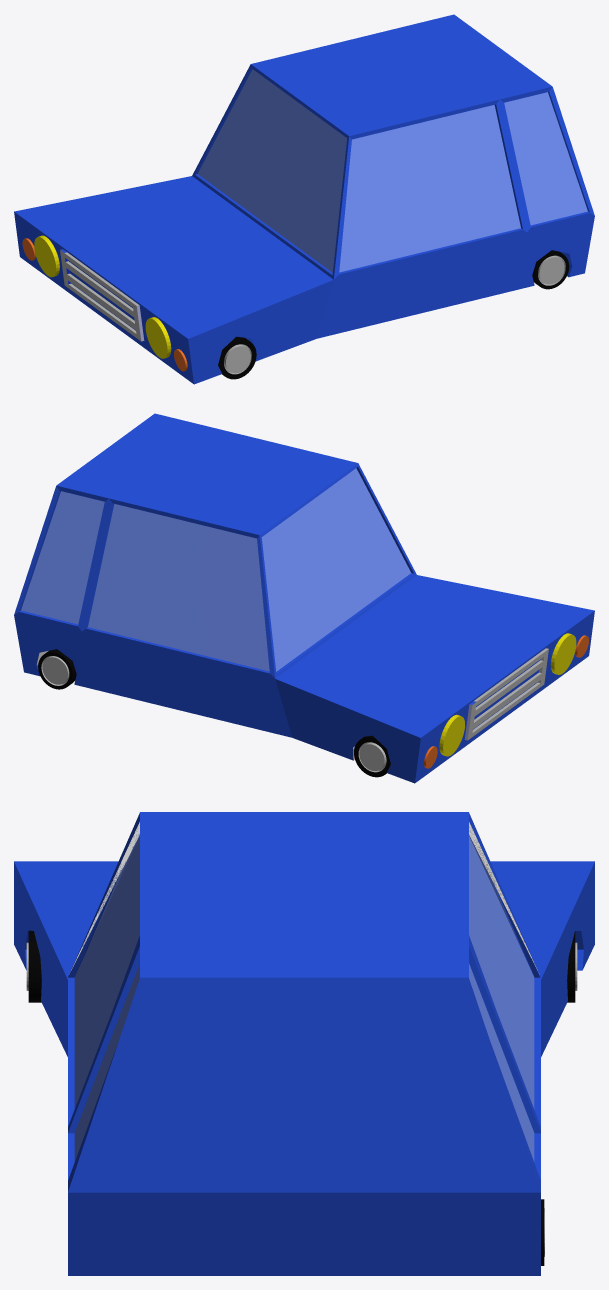
File: Car.fbx
3 renders of one model, top to bottom at view 1: azimuth 30°, elevation 25°; view 2: azimuth 150°, elevation 25°; view 3: azimuth 270°, elevation 25°, orthographic. The views are drawn at different scales.
Parts seen in each view (by area): view 1: Car; view 2: Car; view 3: Car.
Part boxes in pixels (left/top/right/bottom): Car: left=14, top=14, right=594, bottom=384; Car: left=14, top=413, right=594, bottom=783; Car: left=14, top=812, right=594, bottom=1275.
Bounding box in the file's own units: 113 × 46.47 × 80.2.
